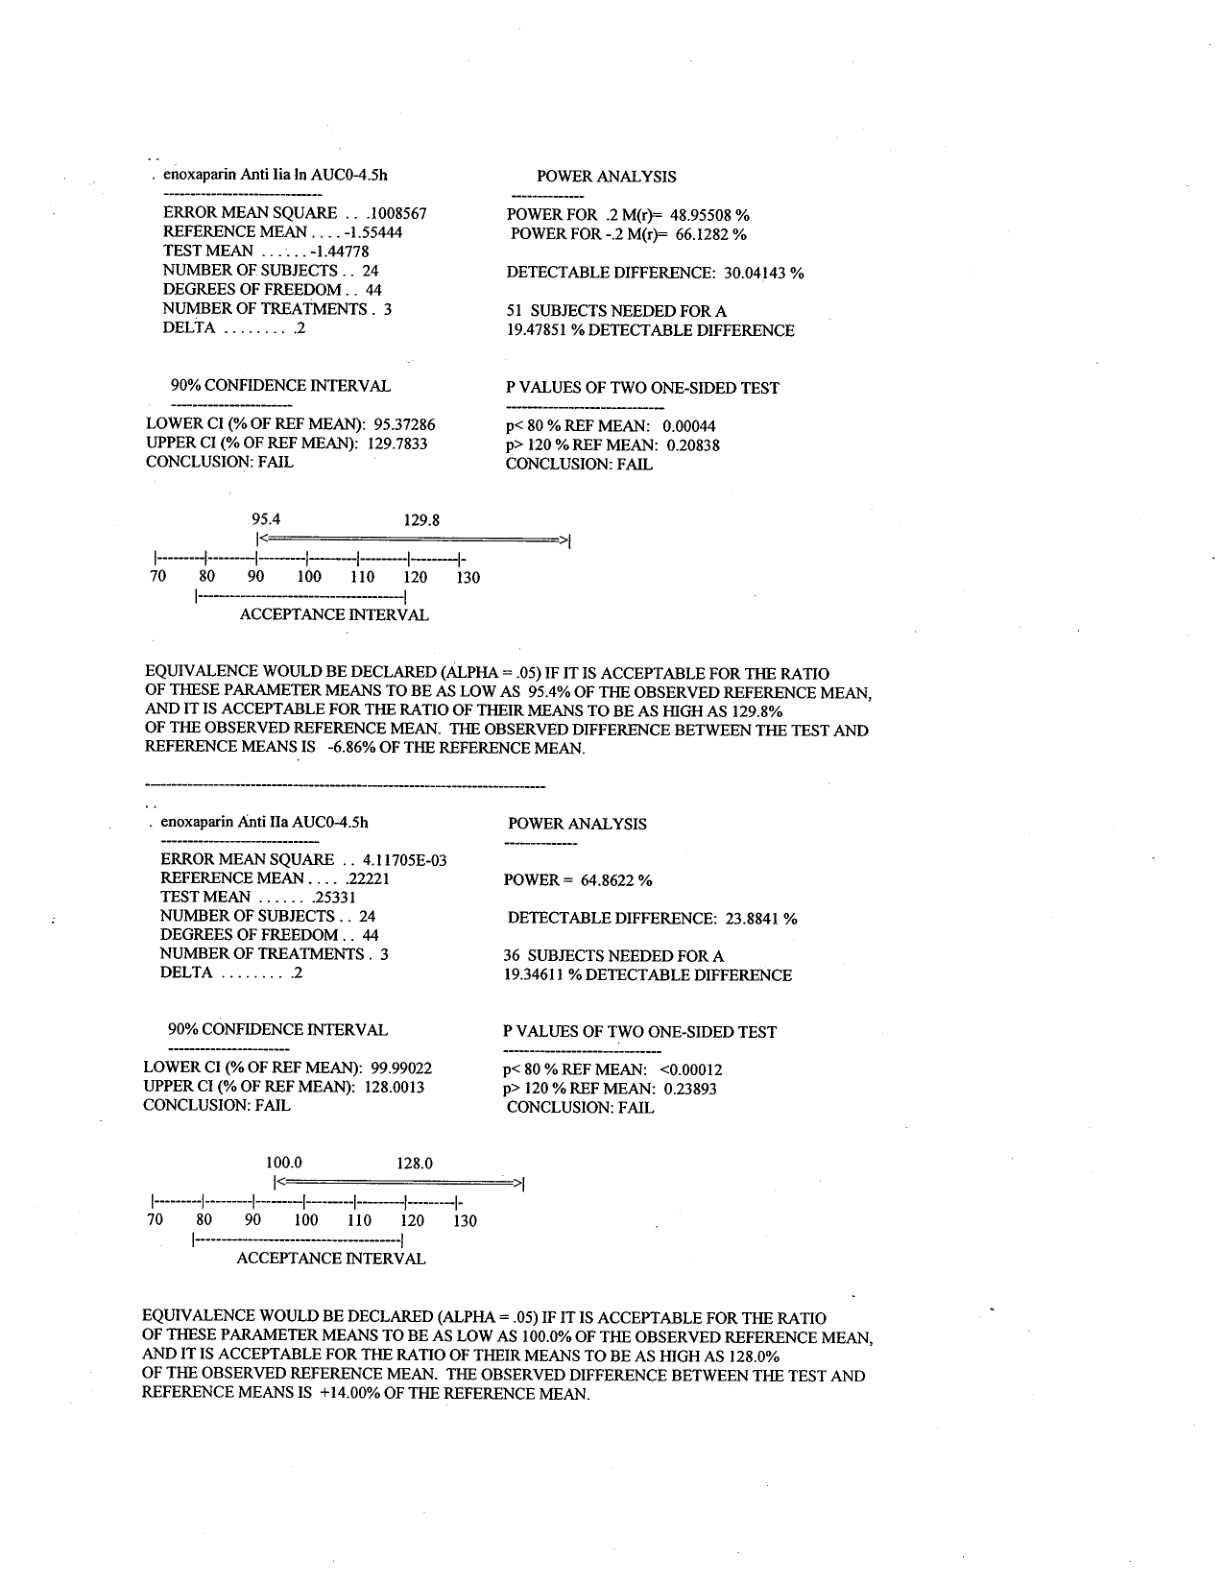nolines: (149, 163, 811, 471), (139, 813, 798, 1119)
